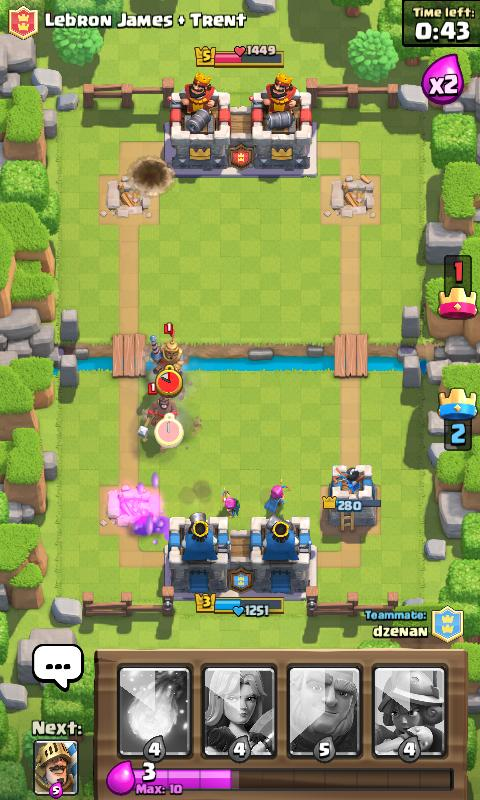ally_archer: (263, 478, 291, 514), (219, 487, 240, 518)
enemy_hog_rider: (136, 381, 178, 446)
enemy_prince: (148, 321, 184, 395)
